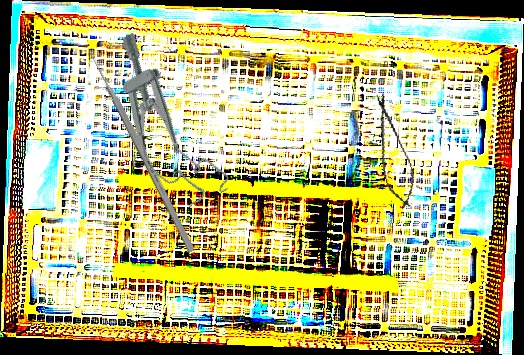Micro Scissor: (364, 89, 422, 213)
Pusher: (82, 40, 196, 254)
Speculum: (86, 25, 235, 219)
